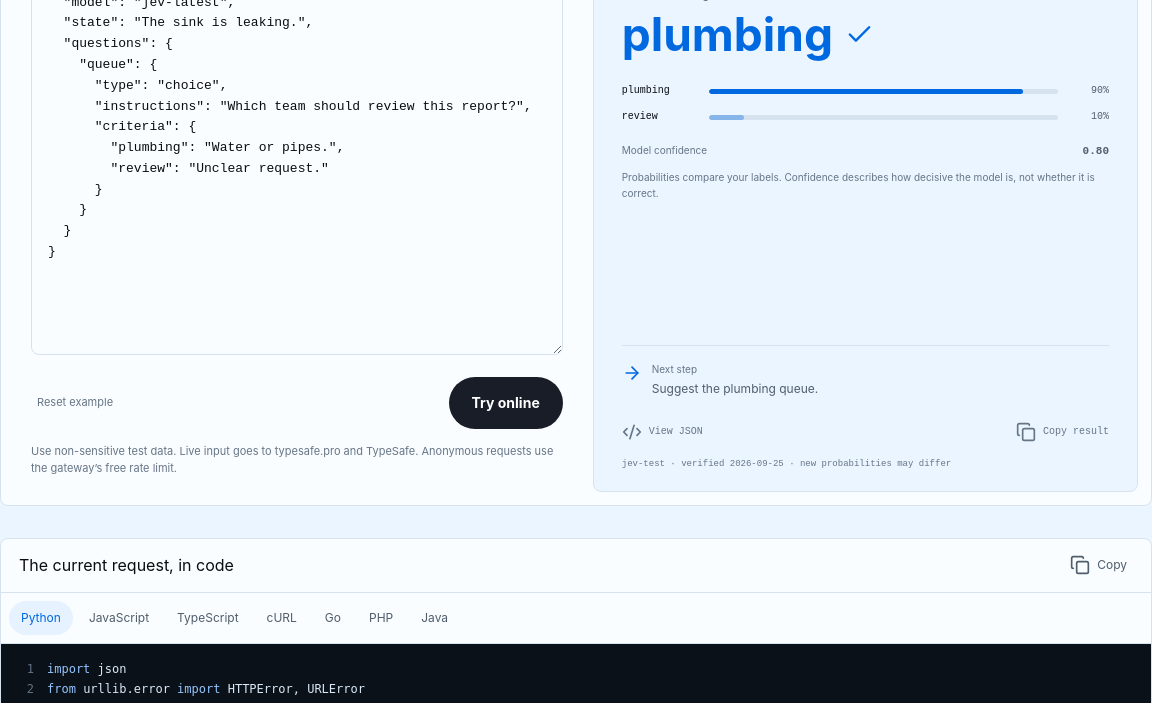
Test: use-case request lifecycle › reports invalid response JSON without showing the saved answer
(page scrolled)
Click the button "Try online" at (506, 403), box [449,377,563,429]
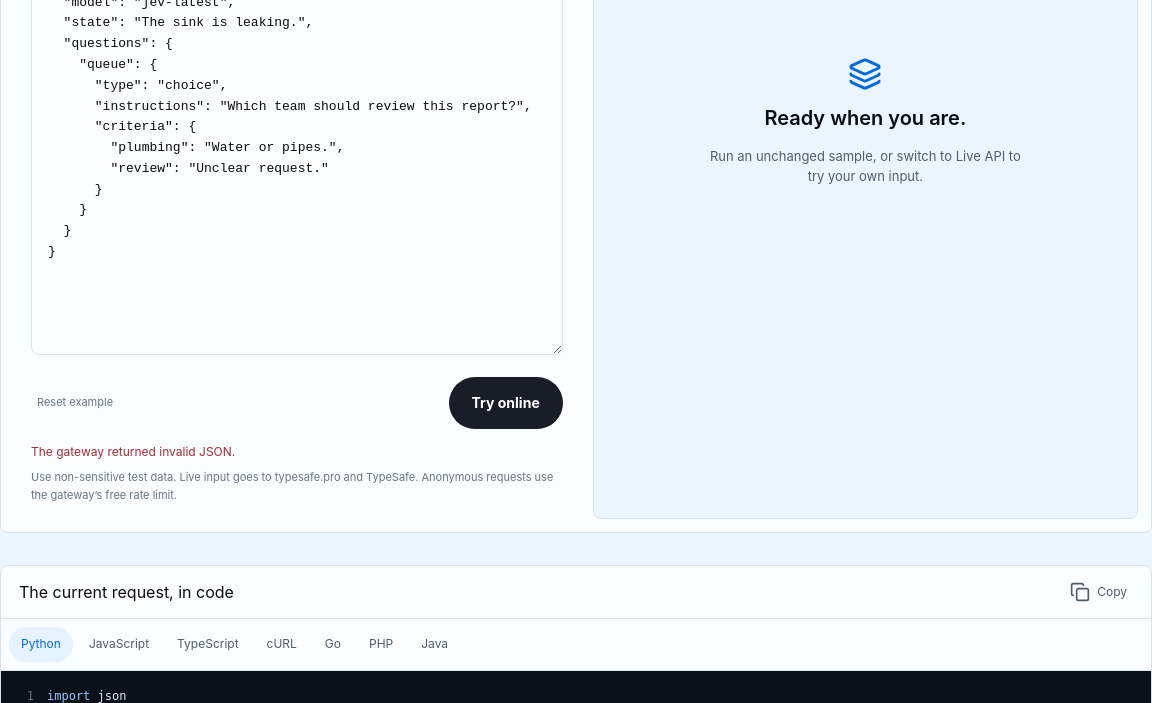
expect the text "The gateway returned invalid JSON." is shown: met, box [31,444,235,459]
expect the heading "Ready when you are." is shown: met, box [764,103,966,134]
